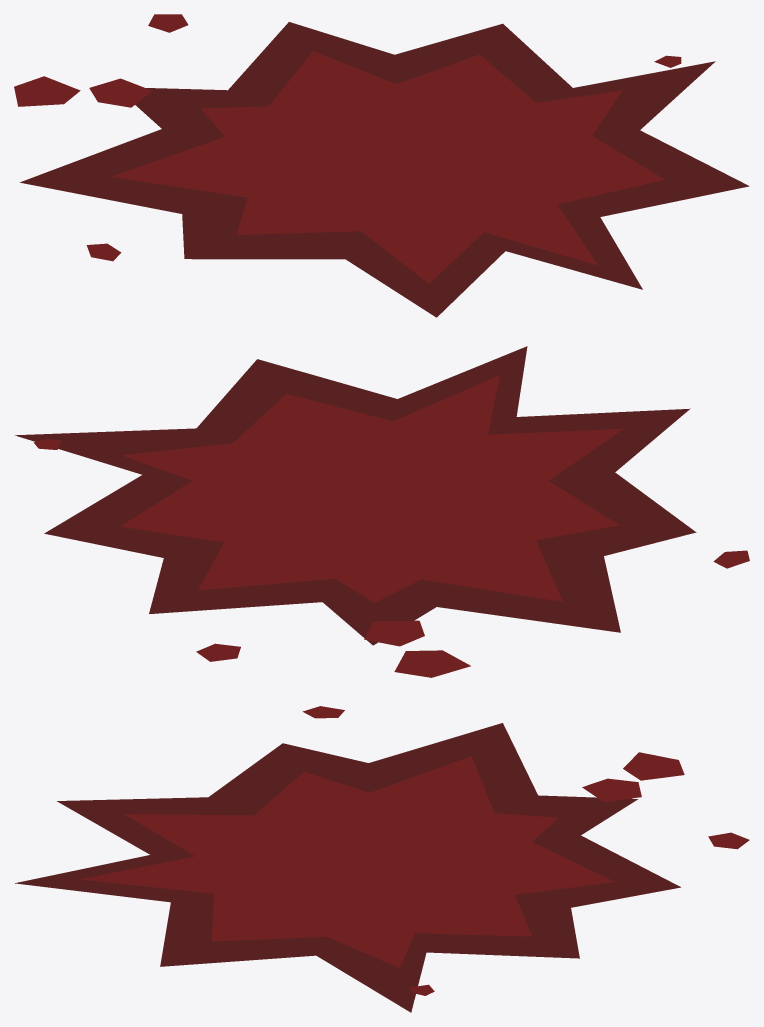
Rendered from blood_splat_b.glb.
3 renders of one model, top to bottom at view 1: azimuth 30°, elevation 25°; view 2: azimuth 150°, elevation 25°; view 3: azimuth 270°, elevation 25°, orthographic. The views are drawn at different scales.
Parts seen in each view (by area): view 1: Decal; view 2: Decal; view 3: Decal.
Part boxes in pixels (<box>): Decal: <box>14,14,749,317</box>; Decal: <box>15,346,749,677</box>; Decal: <box>15,706,749,1012</box>.
Size of the model in its own units: 0.5736 by 0.0045 by 0.5899.
